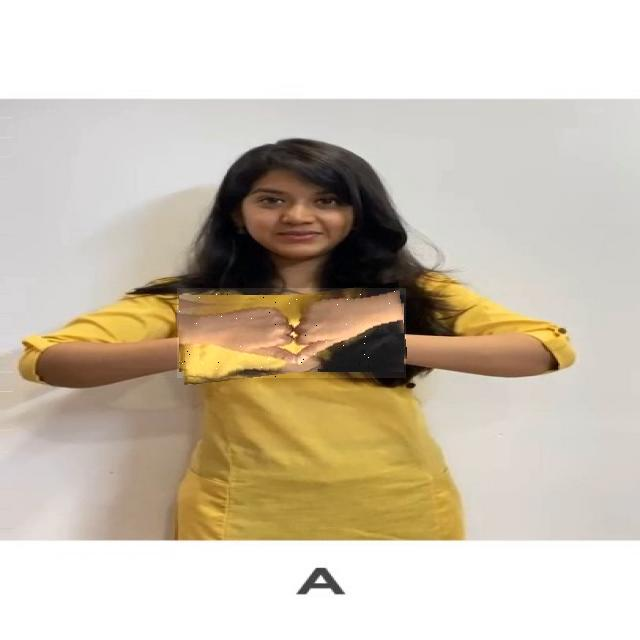A: (177, 288, 406, 378)
